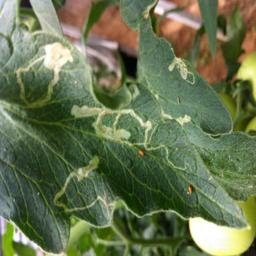liriomyza: (69, 104, 192, 171), (14, 40, 73, 108), (52, 155, 109, 215), (168, 54, 196, 85)
